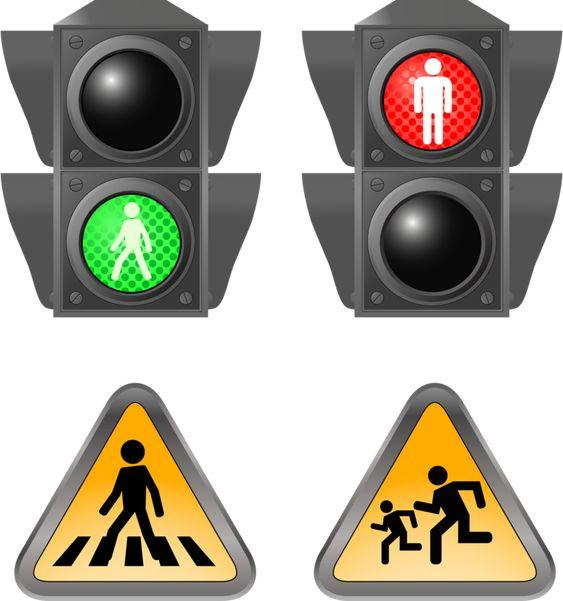Traffic light green: (0, 0, 294, 346)
